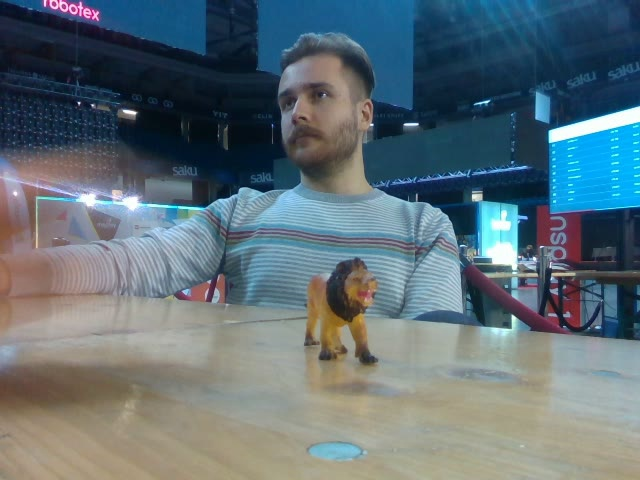toy: (303, 257, 377, 363)
